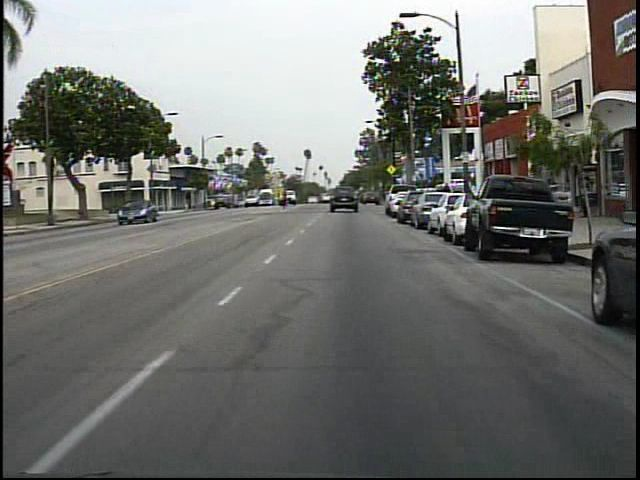person: (437, 179, 457, 216), (278, 185, 293, 214)
